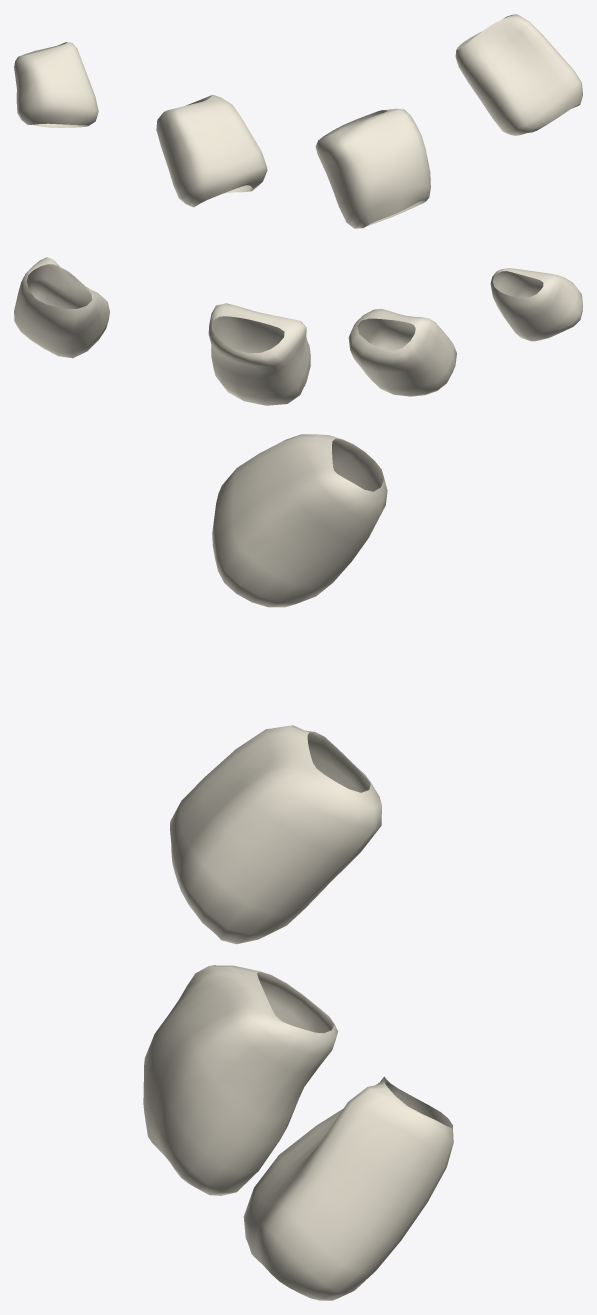
The picture shows the model from 3 angles, top to bottom: view 1: azimuth 30°, elevation 25°; view 2: azimuth 150°, elevation 25°; view 3: azimuth 270°, elevation 25°; orthographic projection. The views are drawn at different scales.
Parts seen in each view (by area): view 1: ZA_e4c8bf971dec1cef; view 2: ZA_e4c8bf971dec1cef; view 3: ZA_e4c8bf971dec1cef.
Boxes of the visible parts, x1,y1,x2,y2 form: ZA_e4c8bf971dec1cef: [14, 14, 582, 228]; ZA_e4c8bf971dec1cef: [14, 257, 582, 405]; ZA_e4c8bf971dec1cef: [143, 434, 453, 1300].
Bounding box in the file's own units: 0.0887 × 0.0338 × 0.0216.
